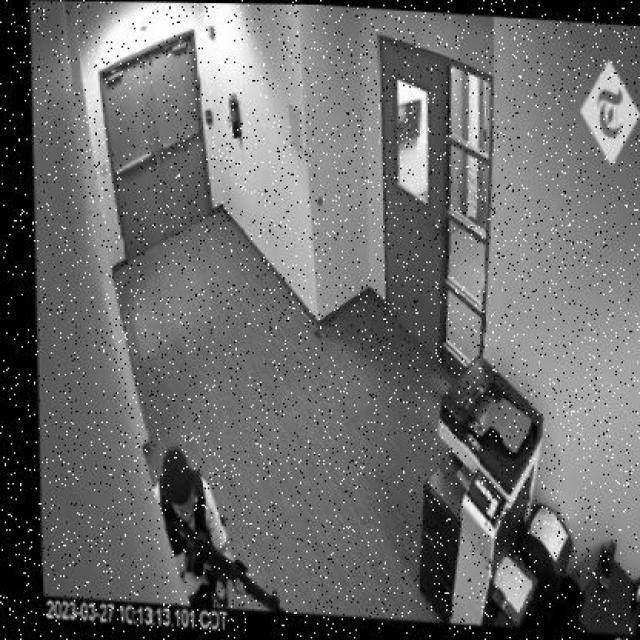weapon: (168, 519, 280, 612)
